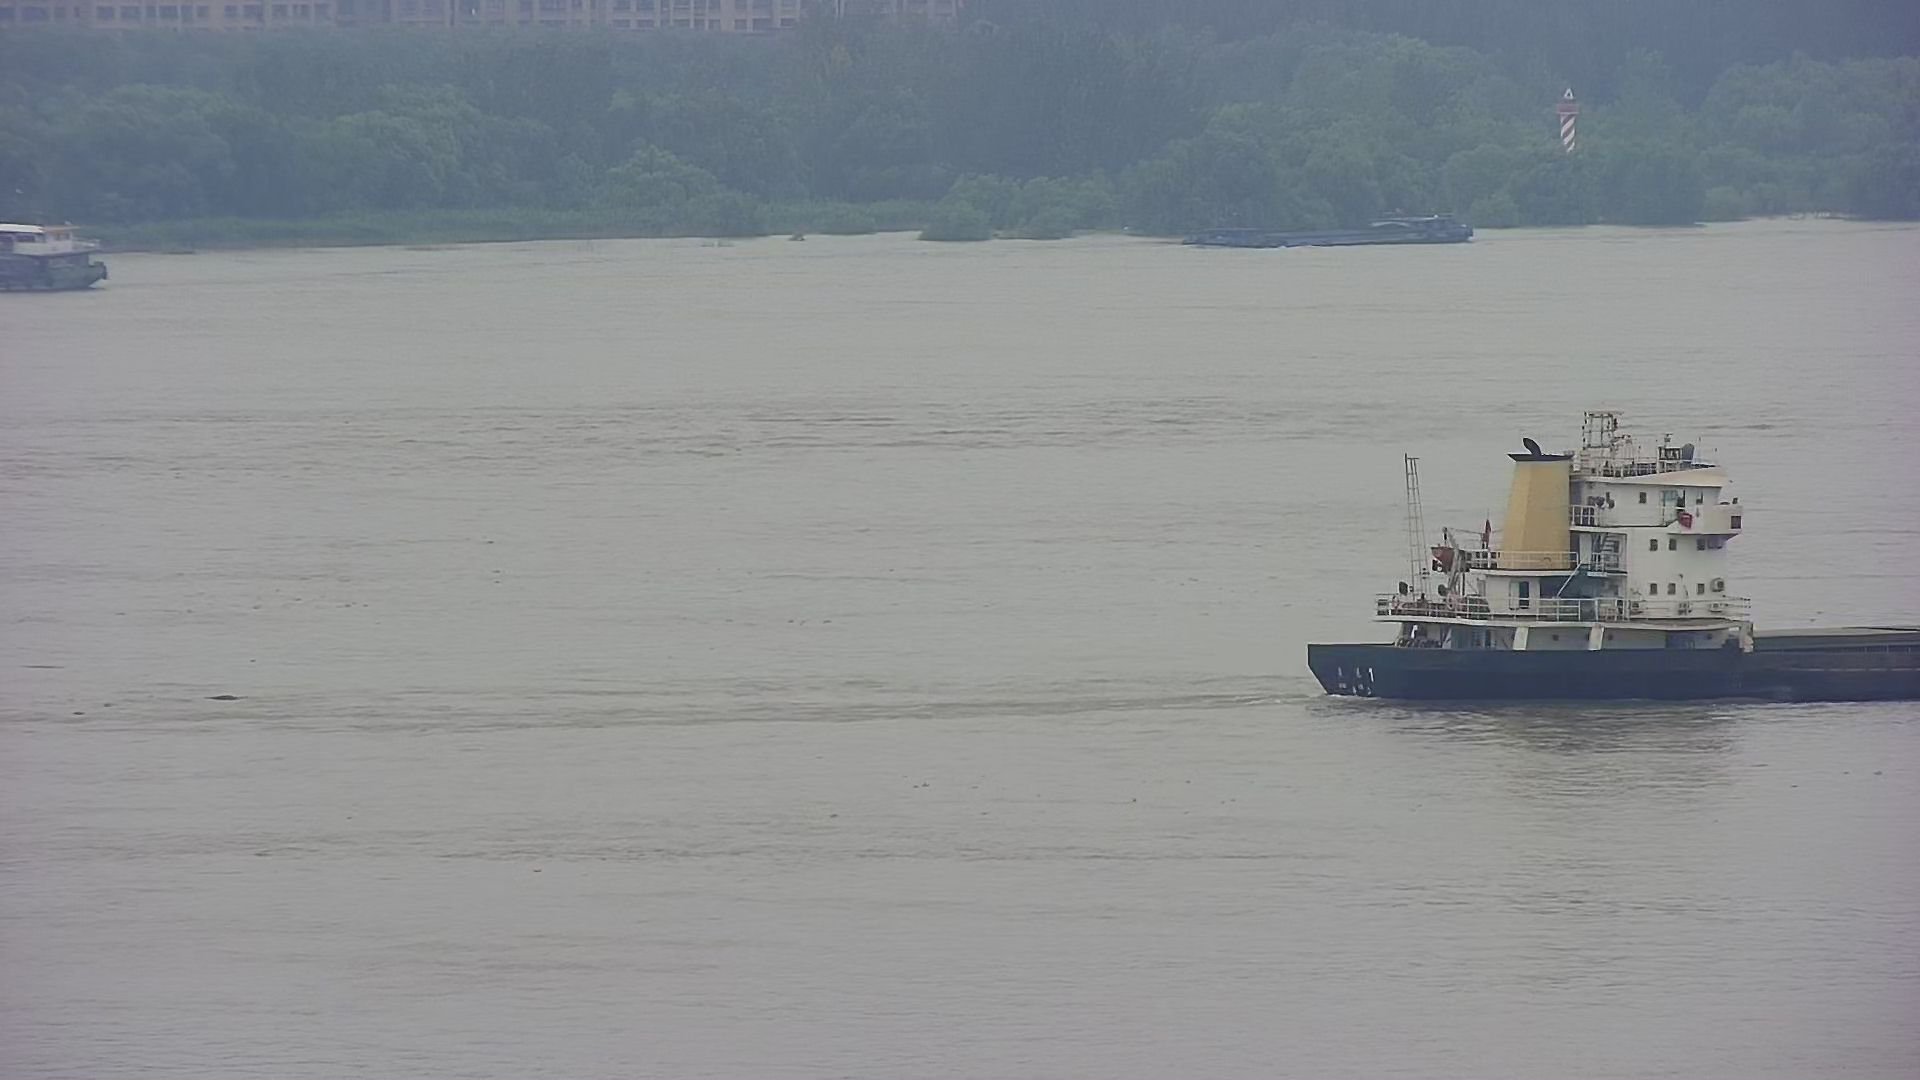boat: (1174, 191, 1494, 256)
ship: (1302, 425, 1920, 721), (1, 207, 119, 301)
